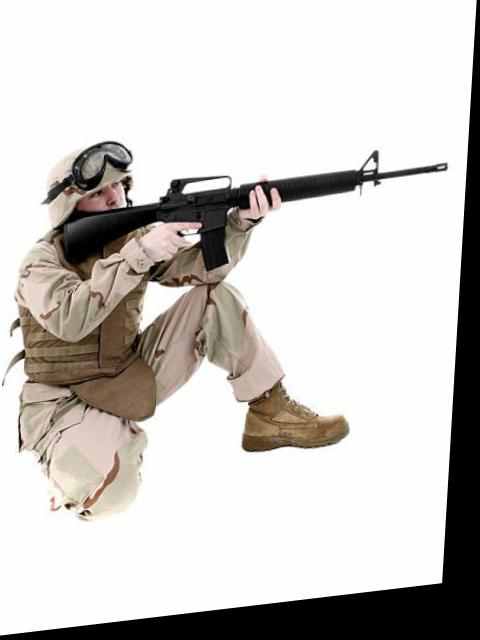other: (27, 136, 342, 510)
